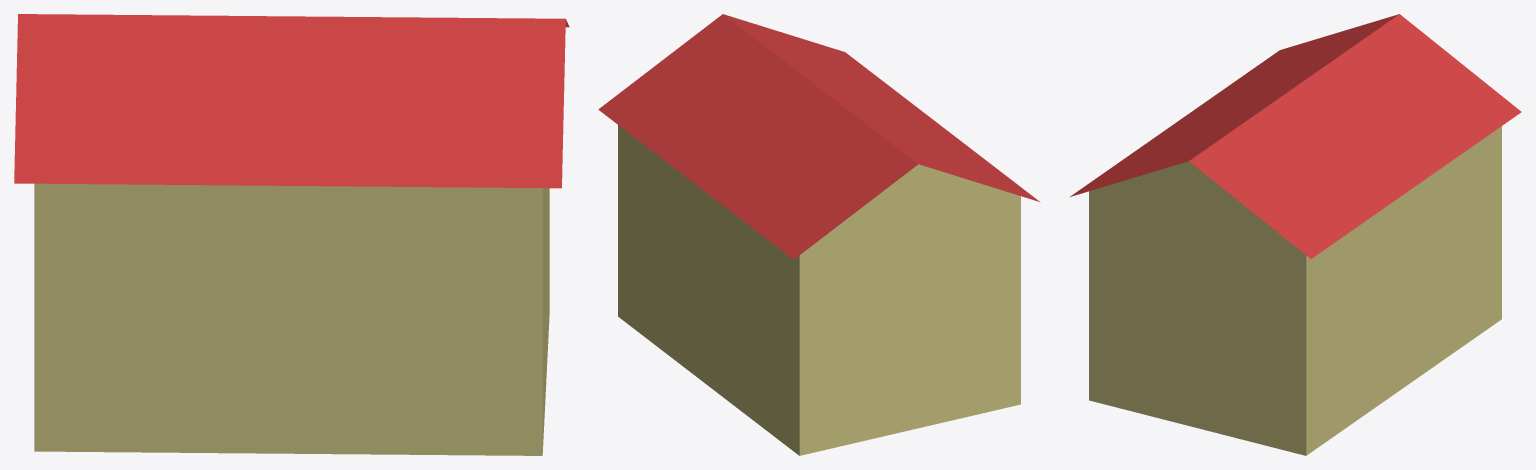
The picture shows the model from 3 angles, left to right: view 1: azimuth 30°, elevation 25°; view 2: azimuth 150°, elevation 25°; view 3: azimuth 270°, elevation 25°; orthographic projection. The views are drawn at different scales.
Parts seen in each view (by area): view 1: group_5, group_3, group_4; view 2: group_5, group_3, group_4; view 3: group_5, group_3, group_4.
Boxes of the visible parts, x1,y1,x2,y2 form: group_5: (34,183,549,455); group_3: (14,14,569,188); group_4: (14,14,565,188); group_5: (618,125,1020,455); group_3: (616,14,1020,258); group_4: (598,15,1040,259); group_5: (1089,126,1501,455); group_3: (1090,14,1519,258); group_4: (1070,14,1521,258).
Size of the model in its own units: 25.39 by 23.24 by 15.41.
